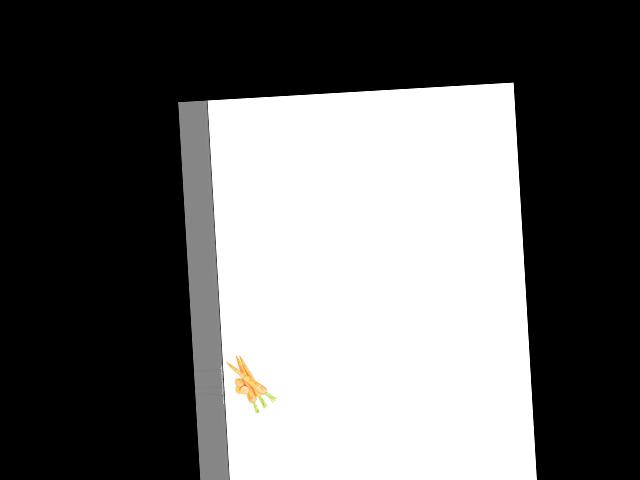carrot: (237, 352, 262, 407)
